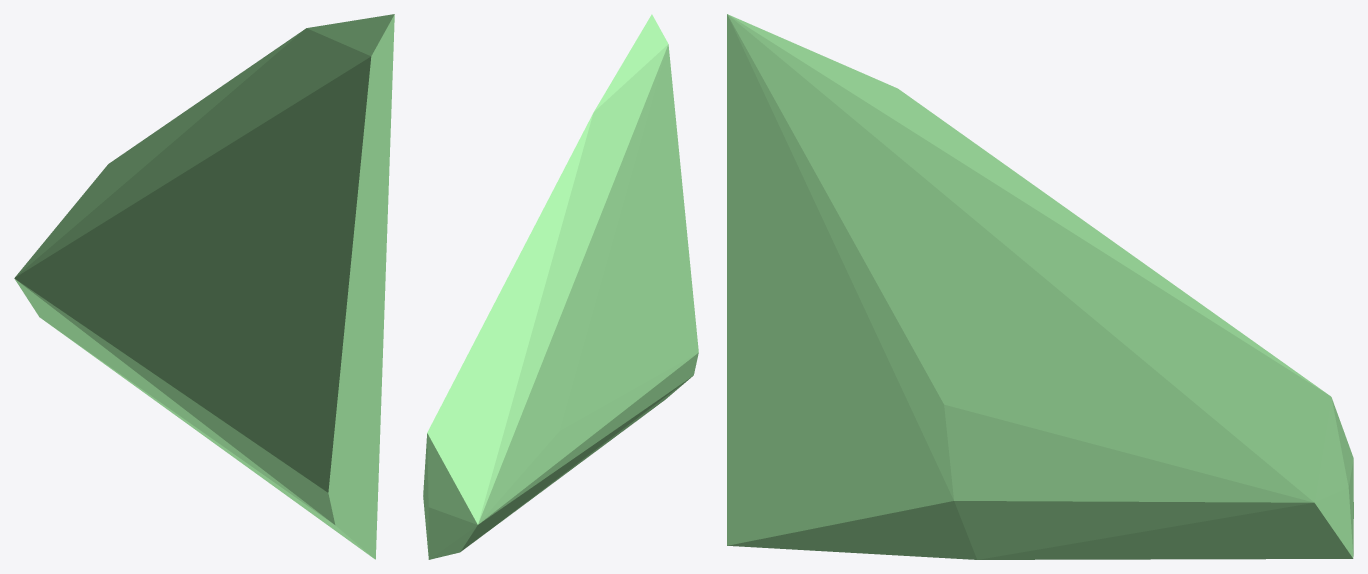
The model's file is UMIRobot_robot_base_coll_16.dae.
3 renders of one model, left to right at view 1: azimuth 30°, elevation 25°; view 2: azimuth 150°, elevation 25°; view 3: azimuth 270°, elevation 25°, orthographic. The views are drawn at different scales.
Visible parts, largest first — view 1: node; view 2: node; view 3: node.
Part boxes in pixels (<box>): node: <box>14,14,394,559</box>; node: <box>423,14,698,559</box>; node: <box>727,14,1353,559</box>.
Bounding box in the file's own units: 0.00984 × 0.0527 × 0.055.
